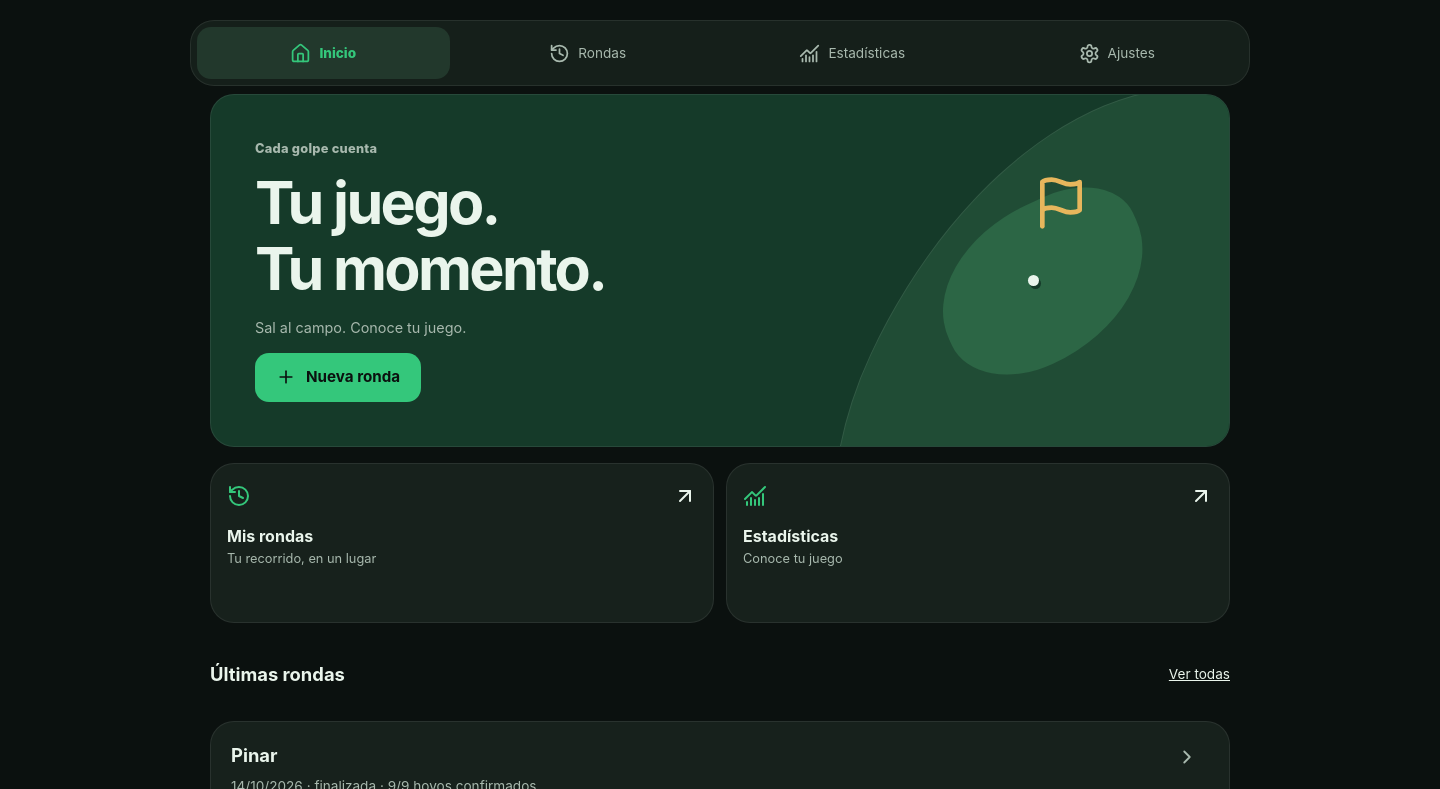
Scenario: Tarjetas pulsables en / › abre la ronda correcta (finalizada: true)
The image size is (1440, 789).
(page scrolled)
Expected: the link "Ver tarjeta" is not shown
Click the heading "Pinar" at (254,755), box [231,744,278,766]
(page scrolled)
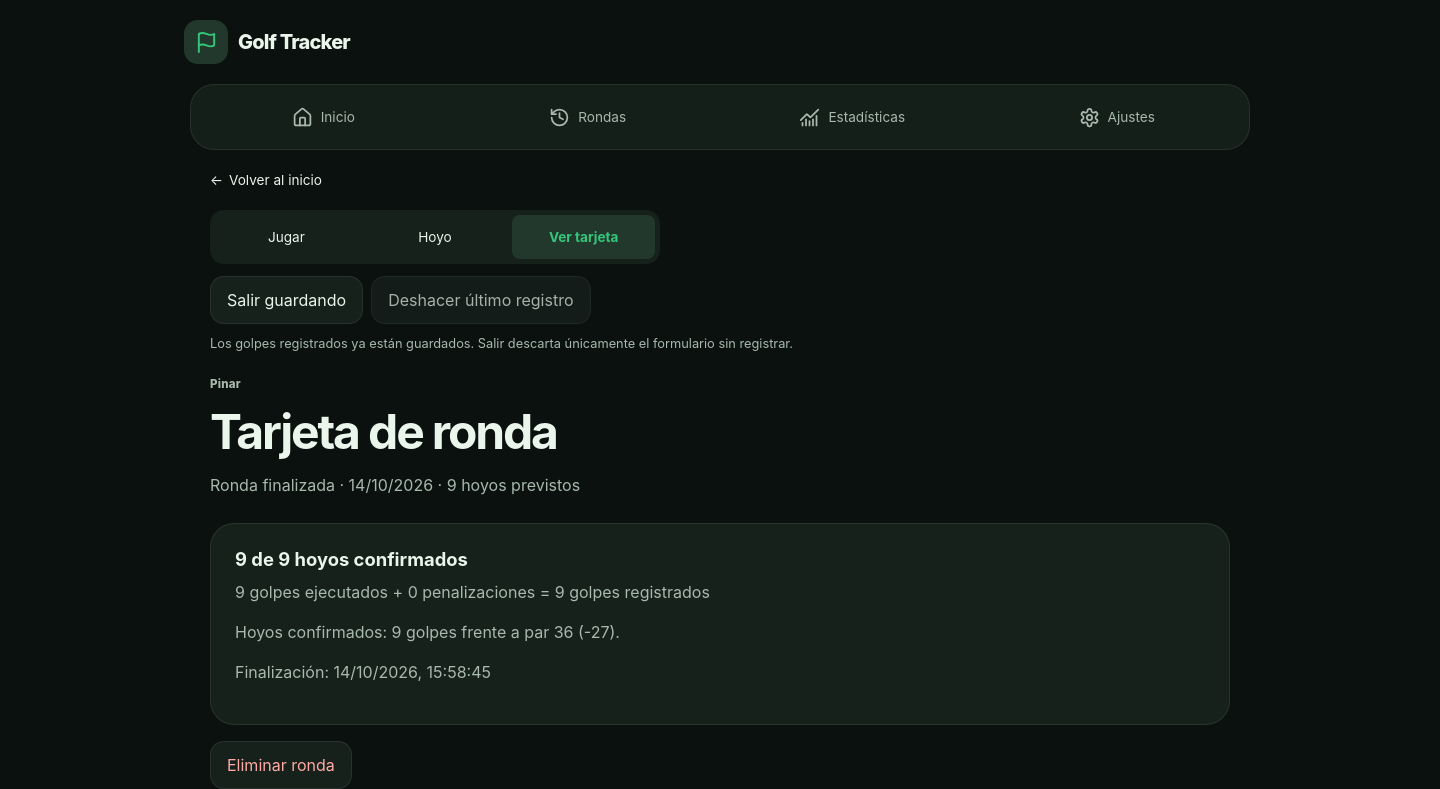
Now the heading "Tarjeta de ronda" is shown, box [210,402,557,461]
